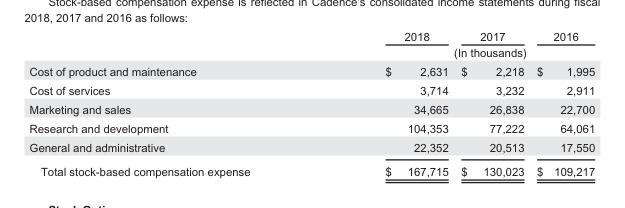table: (28, 29, 594, 177)
table column: (28, 29, 317, 177), (317, 29, 454, 177), (454, 29, 529, 177), (529, 29, 594, 177)
table column header: (28, 29, 594, 61)
table row: (28, 137, 594, 158), (28, 61, 594, 80), (28, 80, 594, 99), (28, 99, 594, 118), (28, 118, 594, 137), (28, 158, 594, 177), (28, 43, 594, 61), (28, 29, 594, 43)
table spanning cell: (317, 43, 594, 61)
